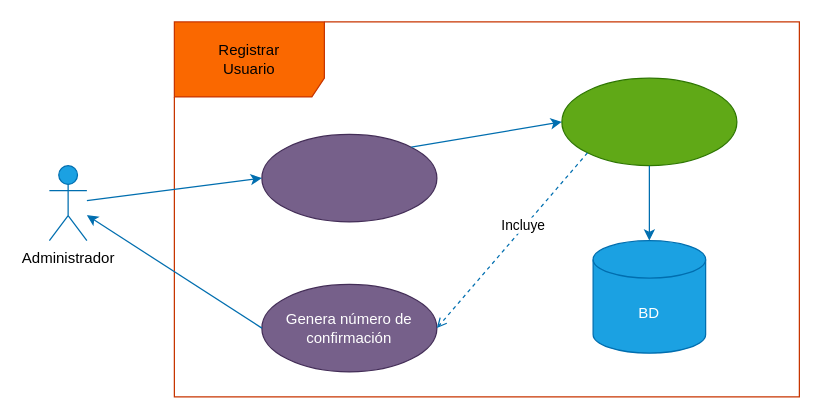
Image size: 821x419. Some labels were removed from this diagram. Each missing label, with the centre of its shape:
Ingresa datos del usuario: pixel 349 177
Valida que no este duplicado: pixel 649 121
